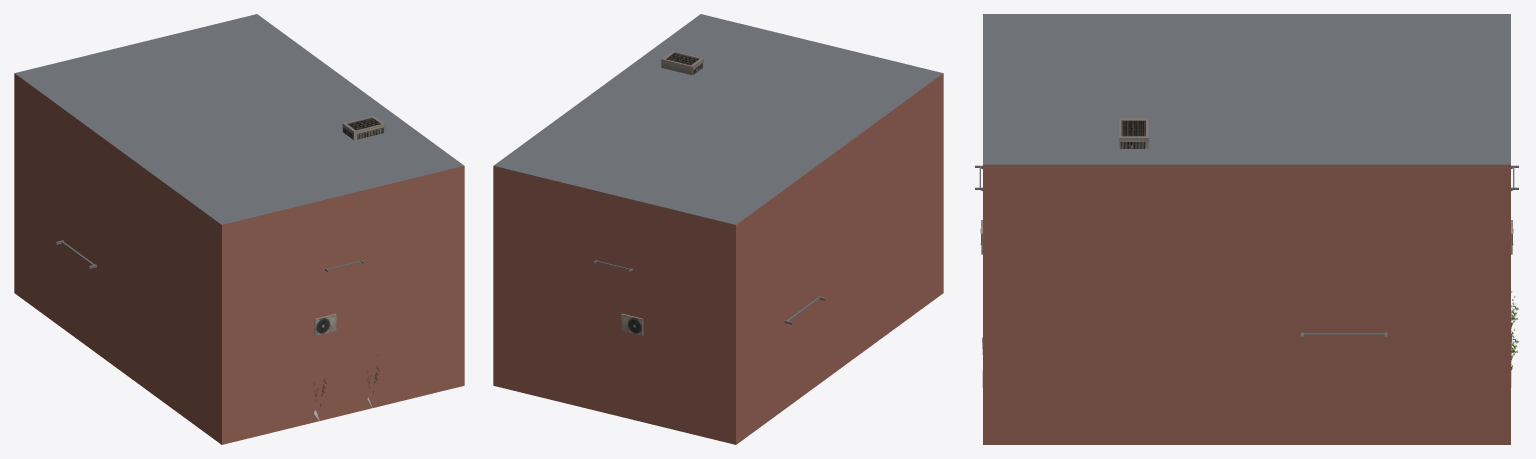
File: bldg_05_red_brick_low.glb
3 views of the same model, side by side, from view 1: azimuth 30°, elevation 25°; view 2: azimuth 150°, elevation 25°; view 3: azimuth 270°, elevation 25° (orthographic). The views are drawn at different scales.
Visible parts, largest first — view 1: bldg_05_red_brick_low; view 2: bldg_05_red_brick_low; view 3: bldg_05_red_brick_low.
Part boxes in pixels (x1,y1,x2,y2): bldg_05_red_brick_low: (14, 14, 464, 444); bldg_05_red_brick_low: (493, 14, 943, 444); bldg_05_red_brick_low: (975, 14, 1518, 444).
Size of the model in its own units: 7.78 by 6.61 by 11.31.
8 materials, 6 textured.
